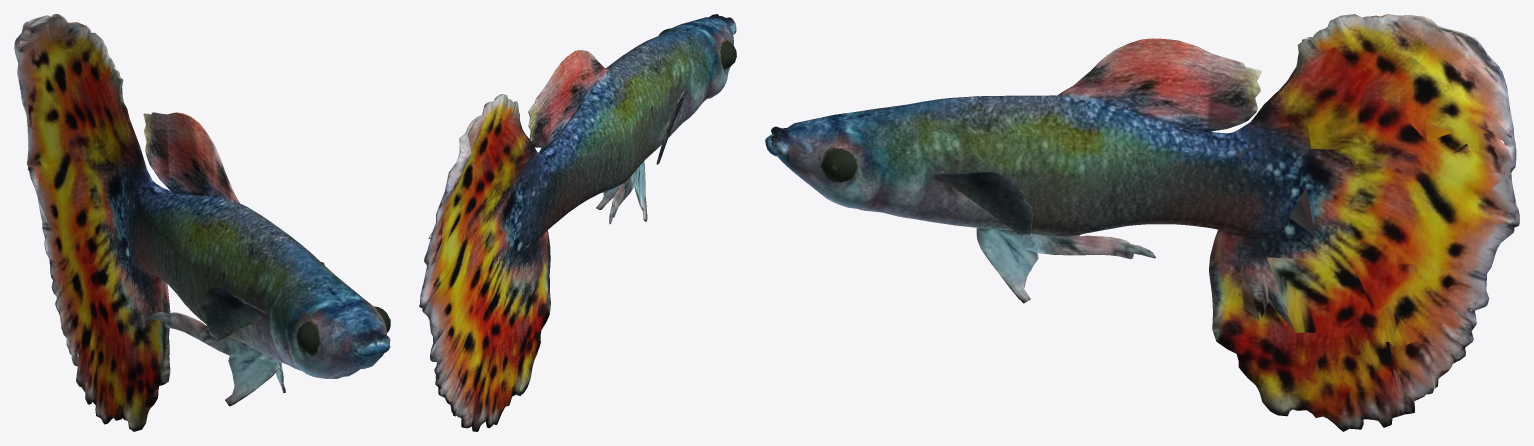
Rendered from guppy.glb.
3 views of the same model, side by side, from view 1: azimuth 30°, elevation 25°; view 2: azimuth 150°, elevation 25°; view 3: azimuth 270°, elevation 25° (orthographic). The views are drawn at different scales.
Parts seen in each view (by area): view 1: geometry_0.001; view 2: geometry_0.001; view 3: geometry_0.001.
Part boxes in pixels (x1=…): geometry_0.001: x1=14, y1=14, x2=390, y2=431; geometry_0.001: x1=419, y1=14, x2=736, y2=431; geometry_0.001: x1=765, y1=14, x2=1519, y2=431.
Bounding box in the file's own units: 0.00587 × 0.0201 × 0.0332.
Materials: 2 (2 with a texture image).
